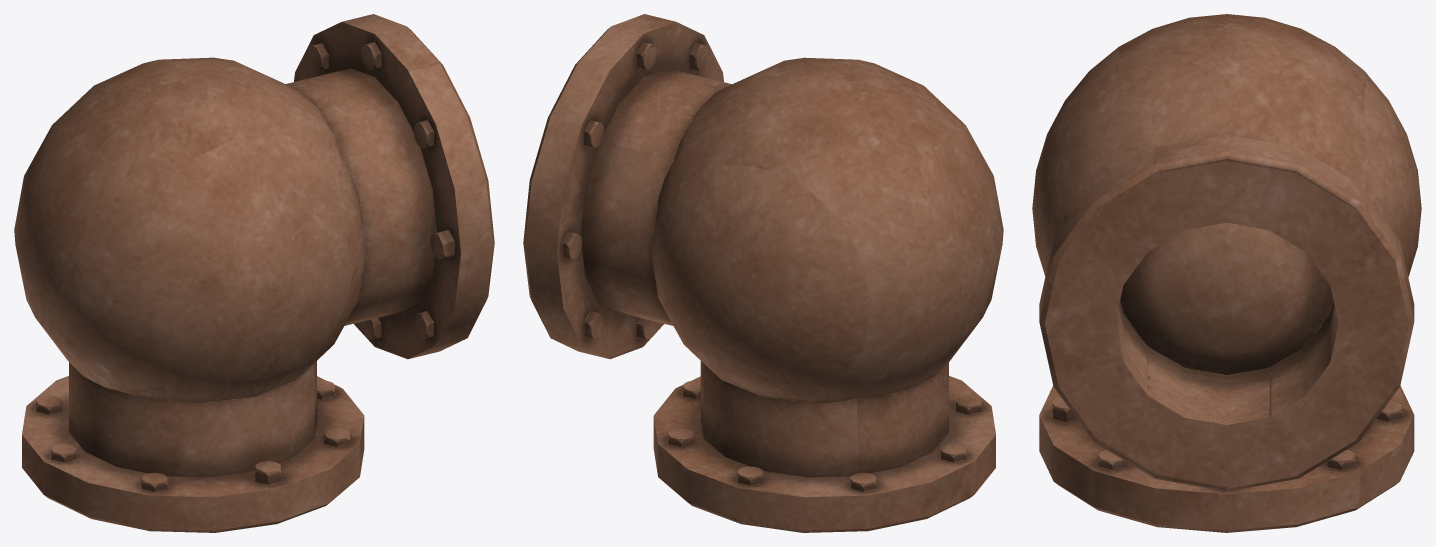
File: _Lpipe.fbx
3 renders of one model, left to right at view 1: azimuth 30°, elevation 25°; view 2: azimuth 150°, elevation 25°; view 3: azimuth 270°, elevation 25°, orthographic. The views are drawn at different scales.
Parts seen in each view (by area): view 1: Lpipe.001; view 2: Lpipe.001; view 3: Lpipe.001.
Part boxes in pixels (left/top/right/bottom): Lpipe.001: left=14, top=14, right=494, bottom=532; Lpipe.001: left=523, top=14, right=1003, bottom=532; Lpipe.001: left=1032, top=14, right=1421, bottom=532.
Size of the model in its own units: 8606 by 8606 by 7163.
